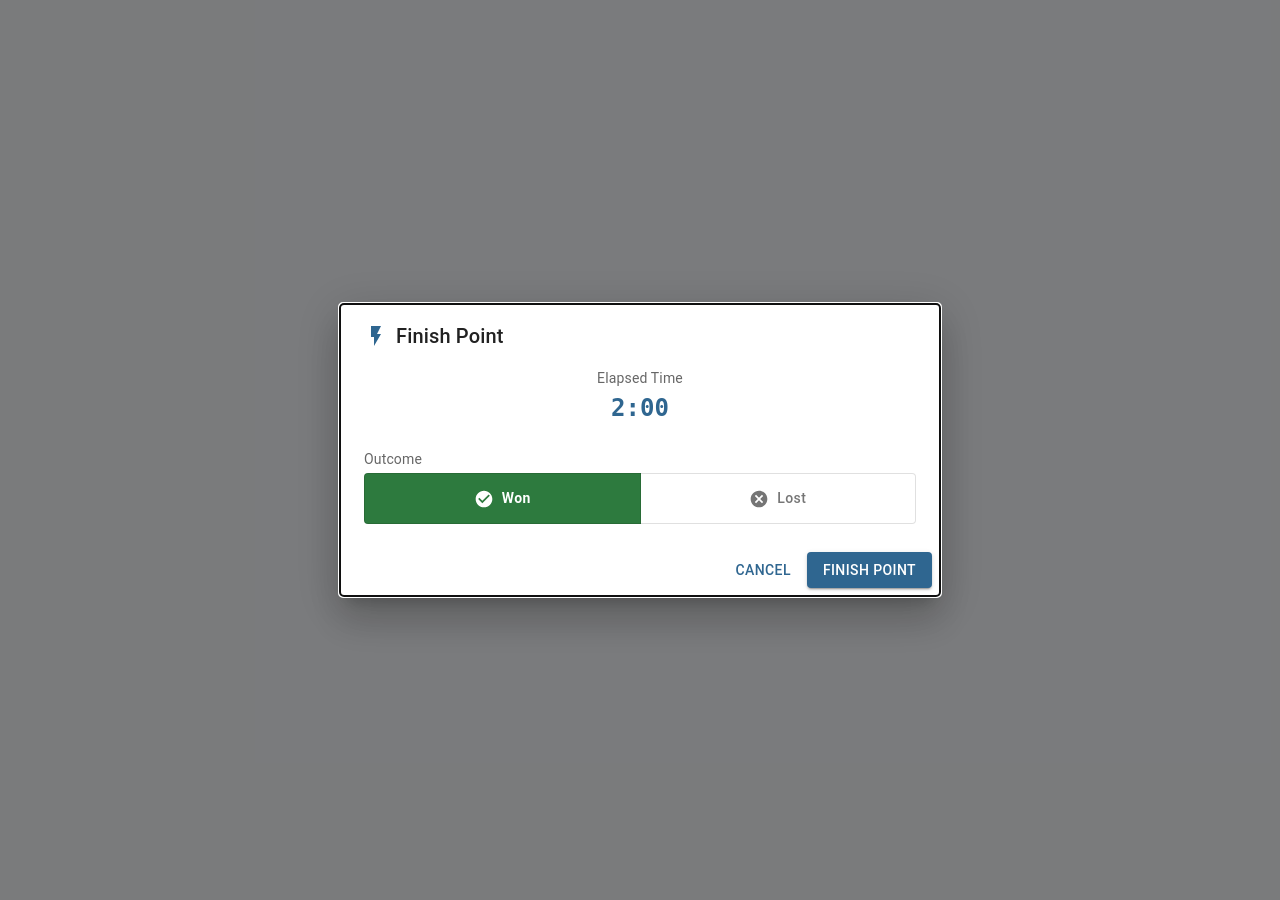
Scenario: FinishPointDialog › shows warning when user changes preselected outcome
Check: the text "doesn't match the current possession" is not shown
Change to Lost
Click the button with aria-label "lost the point": (778, 499) top-left (640, 473), bottom-right (916, 524)
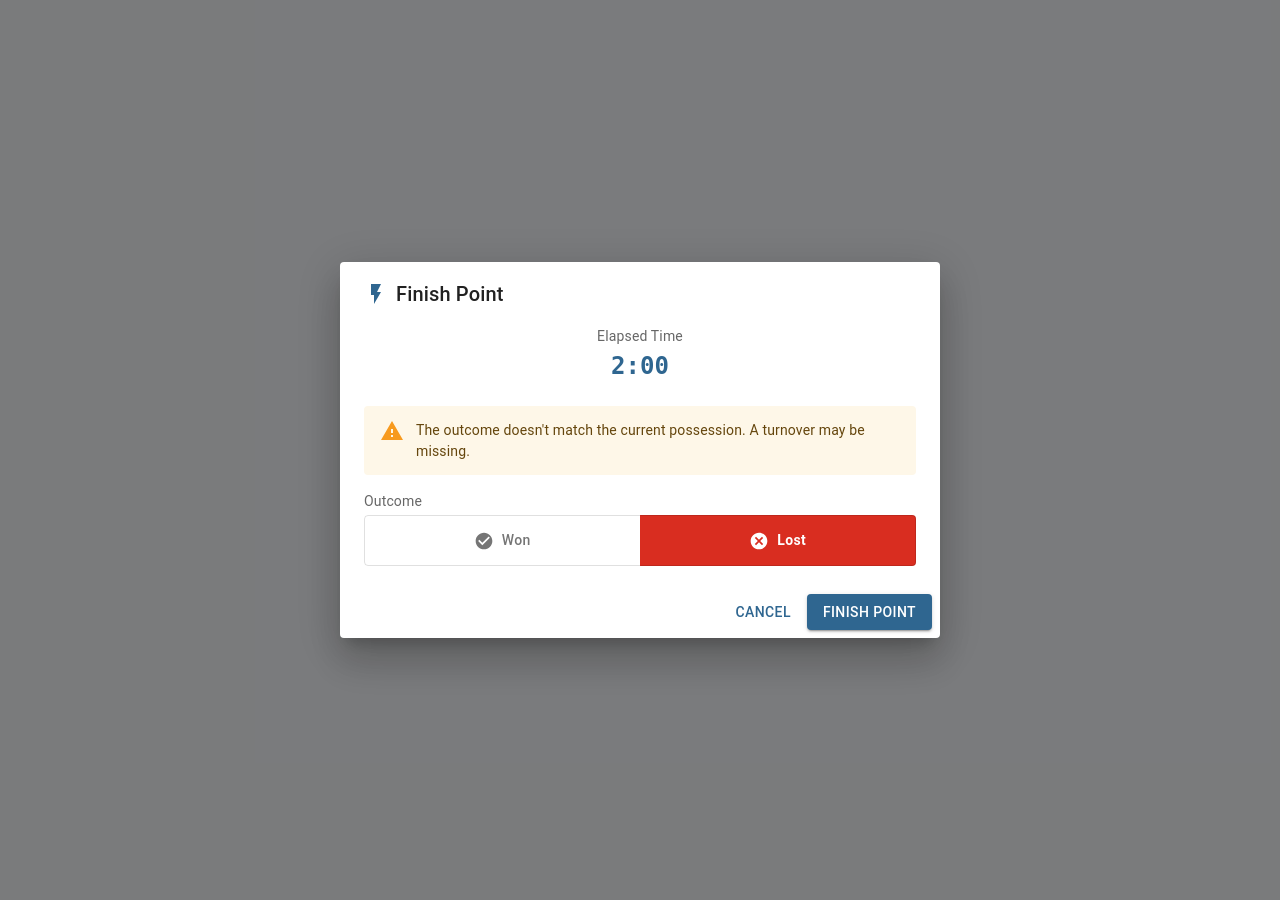
Check: the text "doesn't match the current possession" is shown, box top-left (416, 422), bottom-right (865, 458)
Change back to Won
Click the button with aria-label "won the point": (502, 541) top-left (364, 515), bottom-right (640, 566)
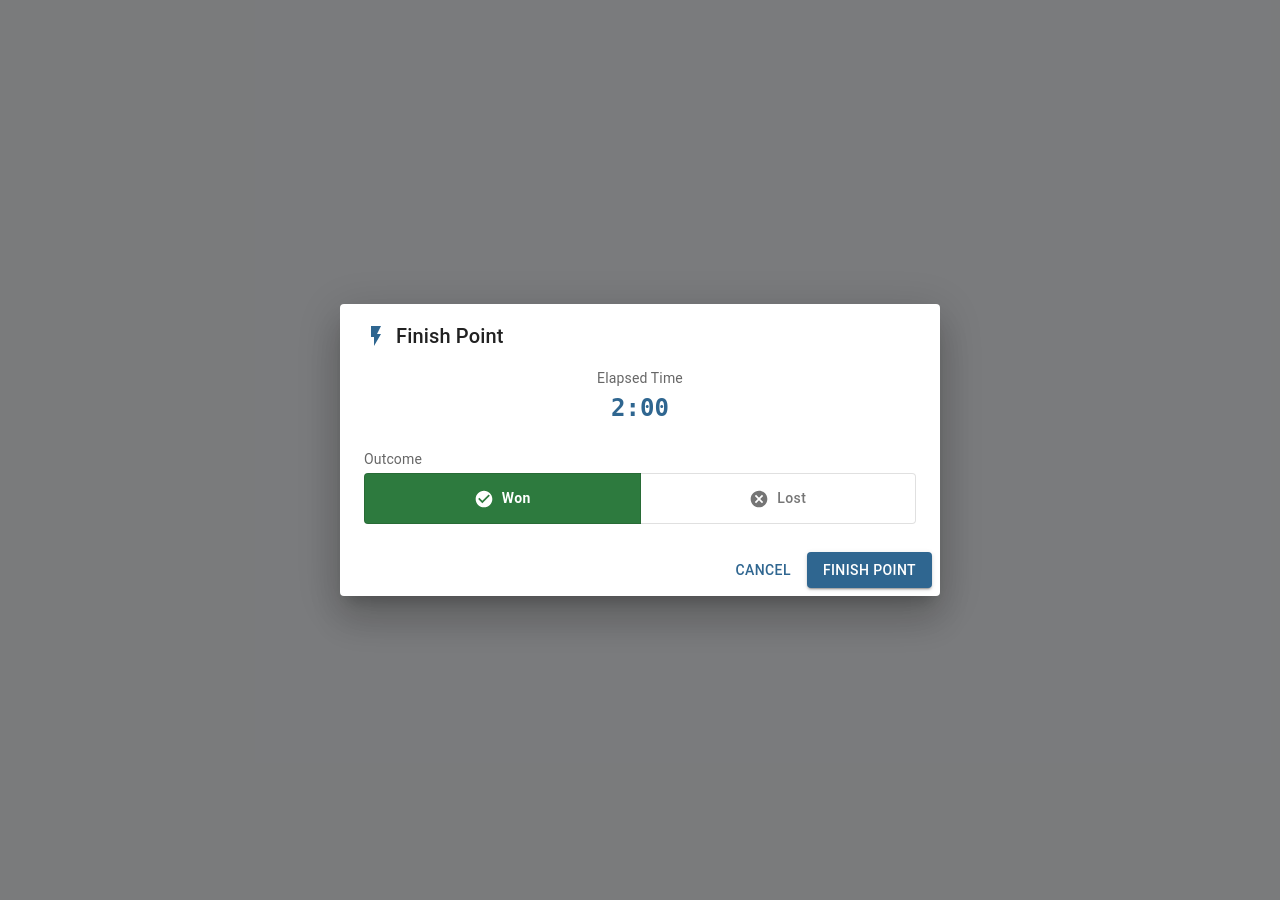
Check: the text "doesn't match the current possession" is gone
